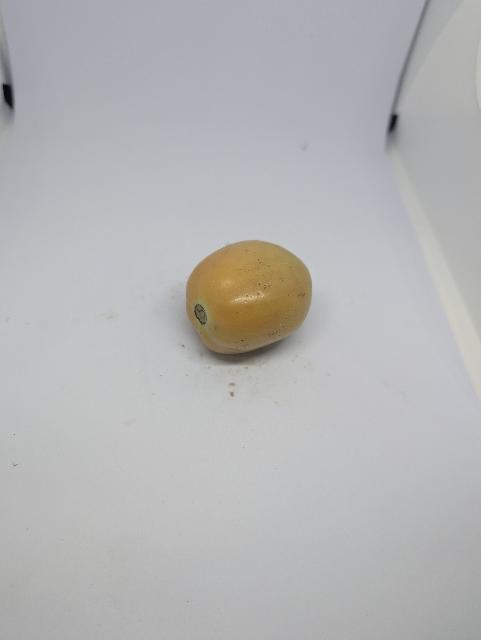breaker: (179, 231, 327, 362)
